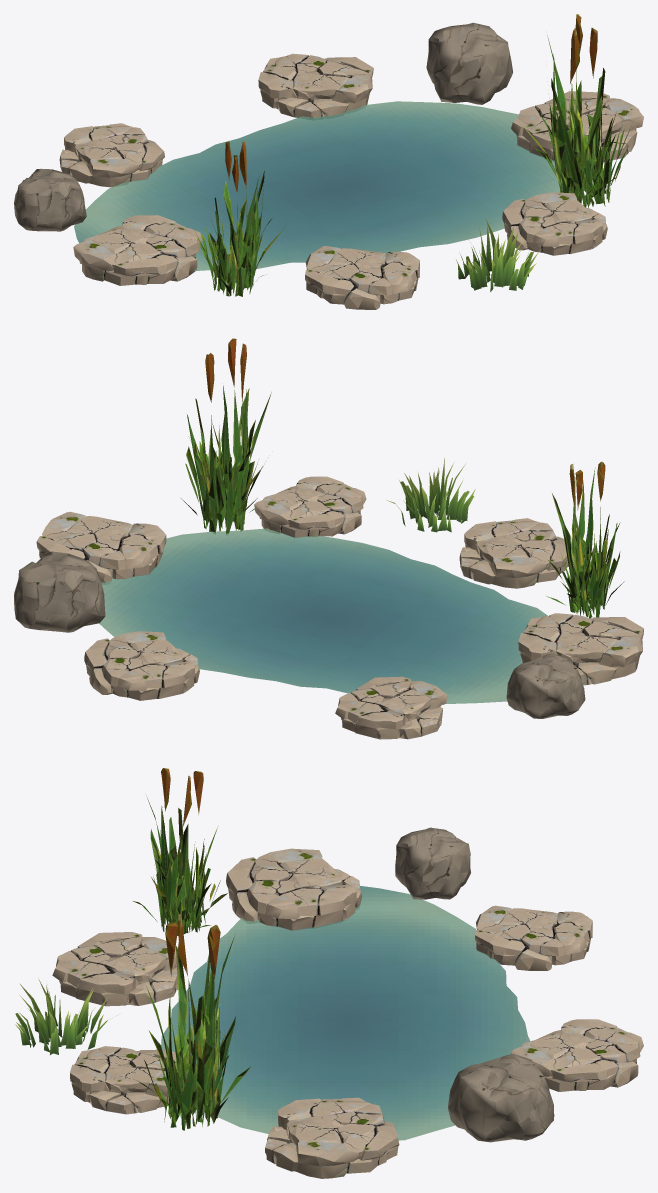
Rendered from PondSet.lod1.glb.
3 views of the same model, one above another, from view 1: azimuth 30°, elevation 25°; view 2: azimuth 150°, elevation 25°; view 3: azimuth 270°, elevation 25° (orthographic). The views are drawn at different scales.
Parts seen in each view (by area): view 1: PondWater, object 10, object 5, object 7, object 4, object 8, object 6, object 3, object 11, object 2, object 9, GrassTuft; view 2: PondWater, object 10, object 5, object 7, object 4, object 8, object 2, object 6, object 3, object 11, object 9, GrassTuft; view 3: PondWater, object 10, object 2, object 5, object 8, object 4, object 7, object 6, object 11, object 3, object 9, GrassTuft.
Boxes of the visible parts, x1,y1,x2,y2 form: PondWater: (74, 101, 562, 270); object 10: (521, 14, 631, 207); object 5: (73, 215, 202, 285); object 7: (258, 53, 373, 117); object 4: (305, 246, 419, 309); object 8: (426, 22, 512, 104); object 6: (59, 123, 164, 187); object 3: (502, 192, 607, 255); object 11: (193, 141, 284, 296); object 2: (511, 91, 643, 162); object 9: (14, 168, 86, 231); GrassTuft: (456, 218, 538, 291); PondWater: (99, 528, 586, 703); object 10: (181, 338, 275, 533); object 5: (518, 613, 643, 685); object 7: (84, 631, 199, 700); object 4: (459, 518, 572, 588); object 8: (14, 551, 105, 632); object 2: (36, 511, 166, 582); object 6: (335, 676, 447, 739); object 3: (254, 476, 366, 537); object 11: (546, 461, 624, 618); object 9: (506, 653, 585, 718); GrassTuft: (386, 458, 475, 532); PondWater: (161, 886, 529, 1140); object 10: (136, 913, 251, 1130); object 2: (265, 1097, 399, 1178); object 5: (226, 848, 362, 930); object 8: (448, 1054, 554, 1142); object 4: (52, 932, 178, 1006); object 7: (510, 1019, 643, 1091); object 6: (475, 905, 592, 970); object 11: (133, 768, 227, 935); object 3: (70, 1046, 176, 1114); object 9: (395, 827, 470, 899); GrassTuft: (15, 979, 119, 1054).
Size of the model in its own units: 4.32 by 1.3 by 3.72.
Materials: 5 (5 with a texture image).
